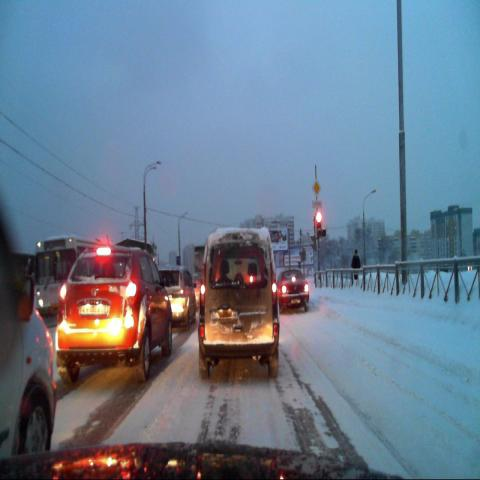2_1: (311, 178, 321, 196)
6_16: (312, 199, 324, 211)
